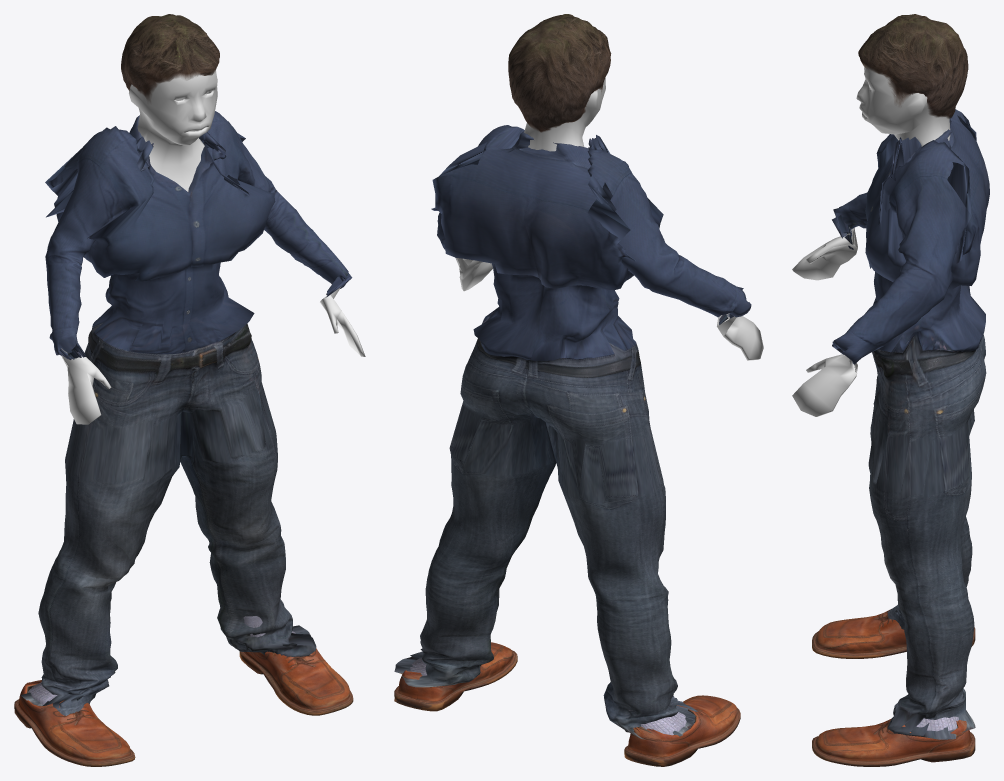
Rendered from warden.glb.
3 views of the same model, side by side, from view 1: azimuth 30°, elevation 25°; view 2: azimuth 150°, elevation 25°; view 3: azimuth 270°, elevation 25° (orthographic). The views are drawn at different scales.
Parts seen in each view (by area): view 1: body; view 2: body; view 3: body.
Boxes of the visible parts, x1,y1,x2,y2 form: body: [14, 14, 365, 766]; body: [394, 14, 763, 766]; body: [792, 14, 989, 766].
Size of the model in its own units: 0.7881 by 1.73 by 0.4584.
4 materials, 3 textured.
